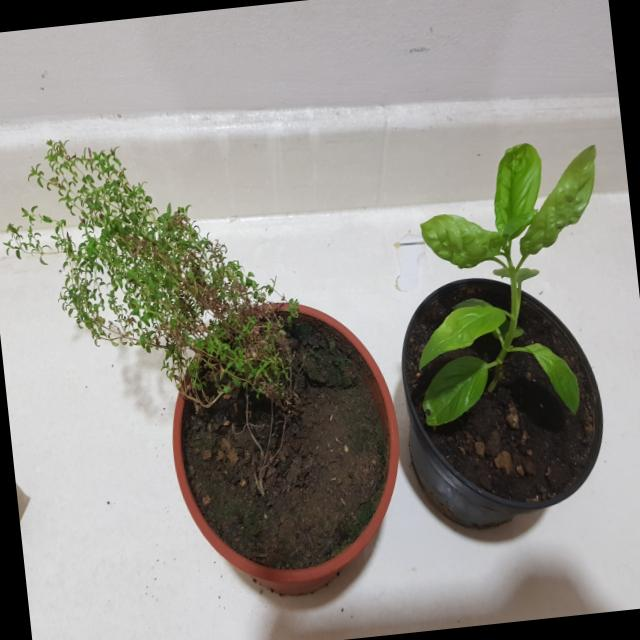Sweet Basil: (381, 118, 634, 458)
Thyme: (0, 100, 329, 459)
